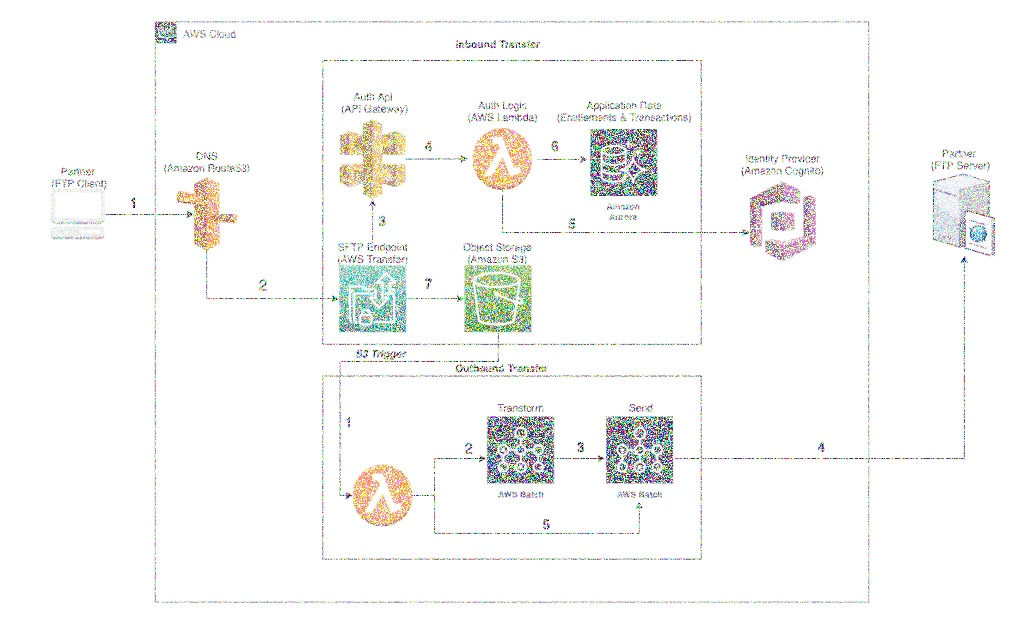ALB: (605, 413, 677, 489), (485, 413, 559, 486)
API-Gateway: (337, 116, 407, 200)
Aurora: (588, 126, 662, 199)
Cognito: (745, 182, 822, 266)
Lambda: (470, 125, 535, 195), (349, 461, 416, 525)
Route53: (173, 177, 244, 254)
S3: (460, 262, 538, 338)
Server: (923, 163, 1006, 262)
Transfer Family: (339, 265, 406, 334)
Web Clients: (37, 159, 119, 250)
aws: (154, 20, 180, 46)
